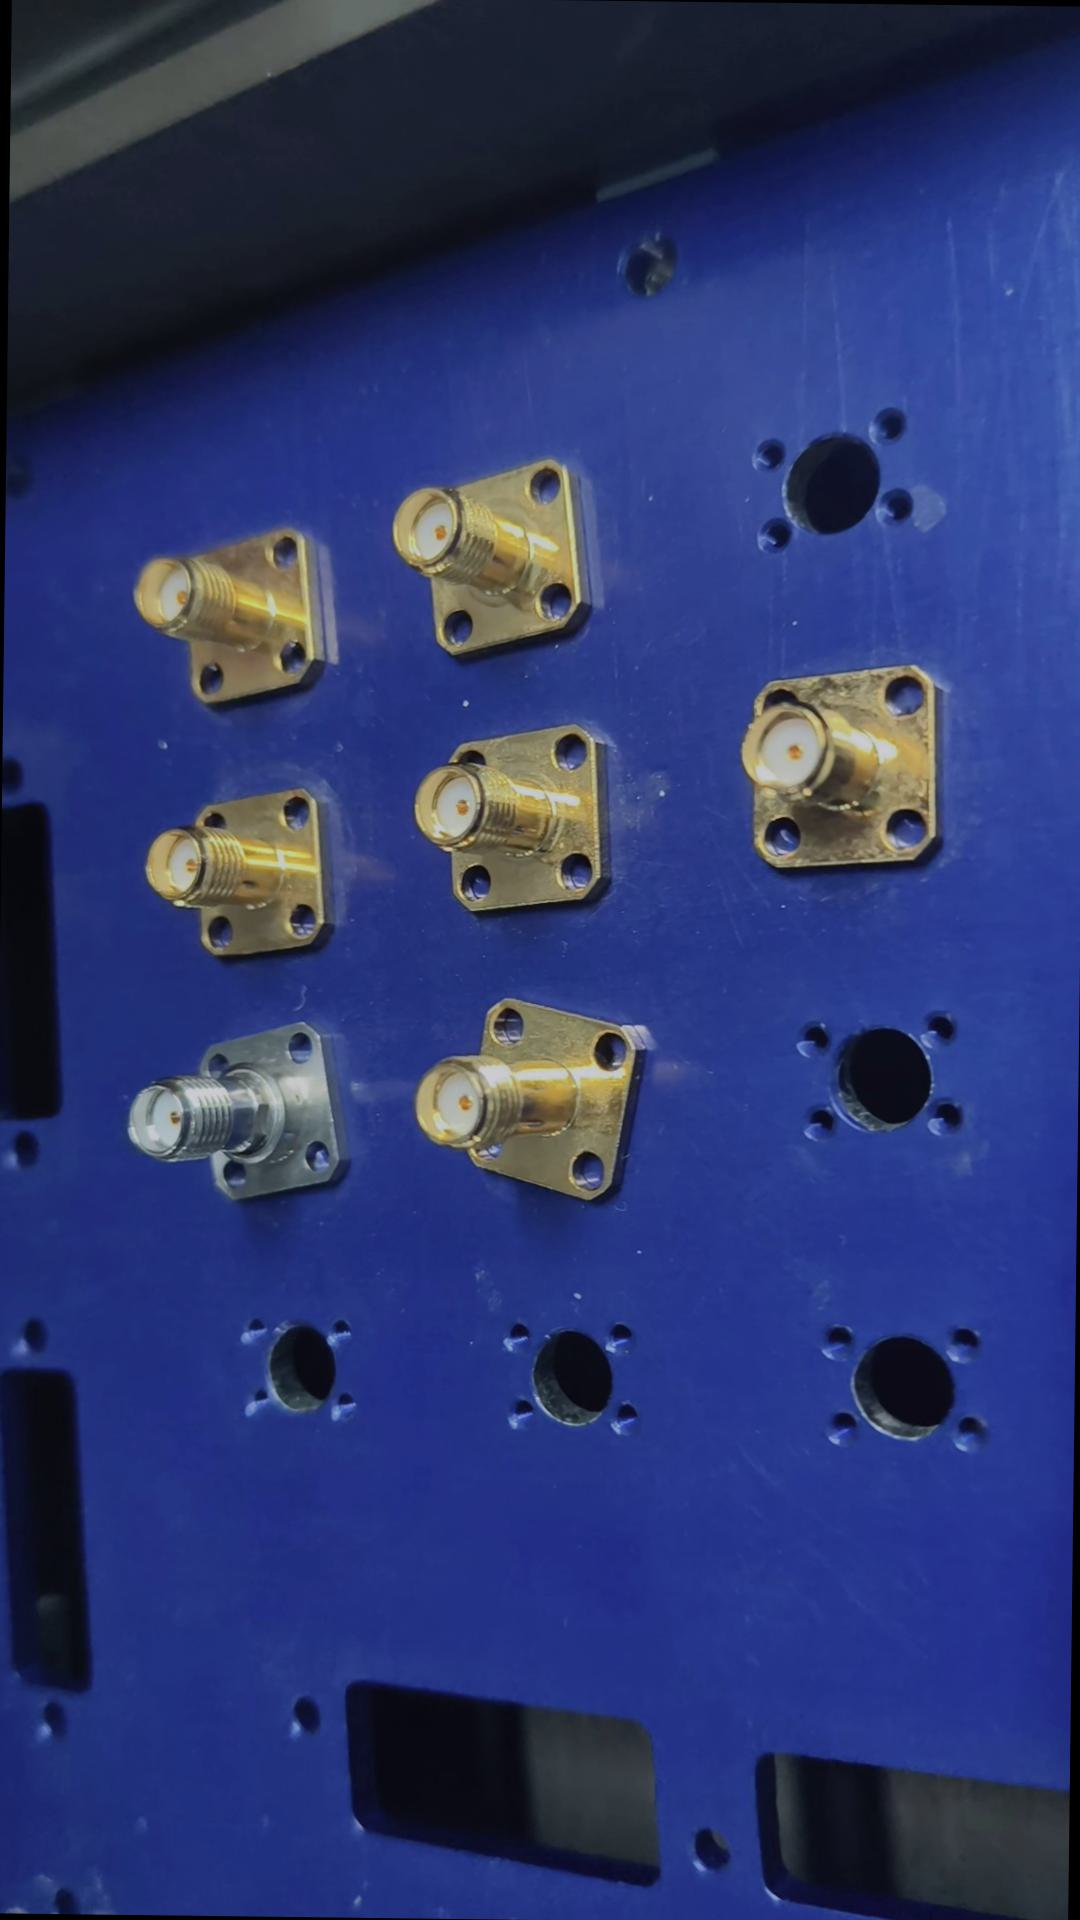SMA: (414, 994, 650, 1203), (736, 662, 949, 876), (123, 1015, 356, 1205), (407, 723, 622, 919), (398, 454, 603, 659), (131, 527, 334, 709), (142, 781, 339, 963)
